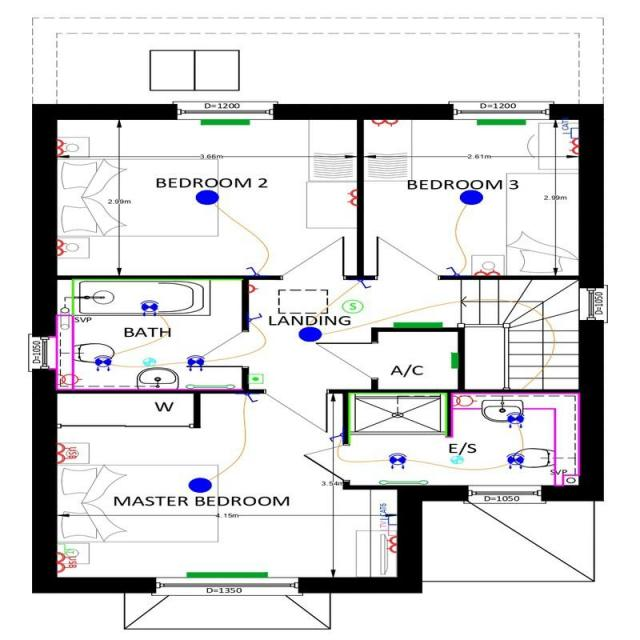Cat 6 Data Socket: (378, 502, 396, 523), (562, 119, 578, 138)
Ceiling Mounted Continuous Extract FanWith Boost Mode Activated By Light Switch: (142, 357, 154, 365), (450, 456, 462, 462)
Co-Ax TV Socket: (378, 518, 396, 534)
Double Socket: (56, 238, 66, 258), (386, 534, 396, 553), (473, 268, 499, 275), (346, 188, 356, 206), (56, 138, 66, 156), (371, 120, 398, 126), (568, 138, 578, 154)
Full Height Tiling: (71, 278, 242, 314), (348, 392, 447, 444)
Light Switch: (328, 432, 342, 442), (357, 278, 371, 288), (248, 312, 262, 322), (245, 392, 258, 402), (446, 266, 459, 275), (244, 266, 258, 274)
Low Energy Downlighter: (506, 452, 524, 470), (186, 354, 204, 372), (506, 411, 524, 428), (388, 452, 406, 469), (139, 299, 158, 315), (94, 354, 111, 370)
Low Energy Pendant Light: (298, 326, 321, 341), (189, 477, 211, 492), (196, 190, 218, 204), (460, 190, 482, 204)
Mains Wired Smoke Detector: (342, 299, 362, 311)
Programmable Room Thermostat: (248, 374, 262, 383)
Radiator: (186, 572, 267, 578), (476, 119, 525, 125), (200, 119, 249, 125), (392, 322, 442, 327), (450, 352, 457, 367)
Shaver Socket: (450, 393, 477, 407), (56, 374, 82, 384)
Single Socket: (247, 283, 258, 292)
Telephone Socket: (56, 542, 70, 554)
USB Double Socket: (56, 442, 75, 463), (57, 552, 75, 572)
